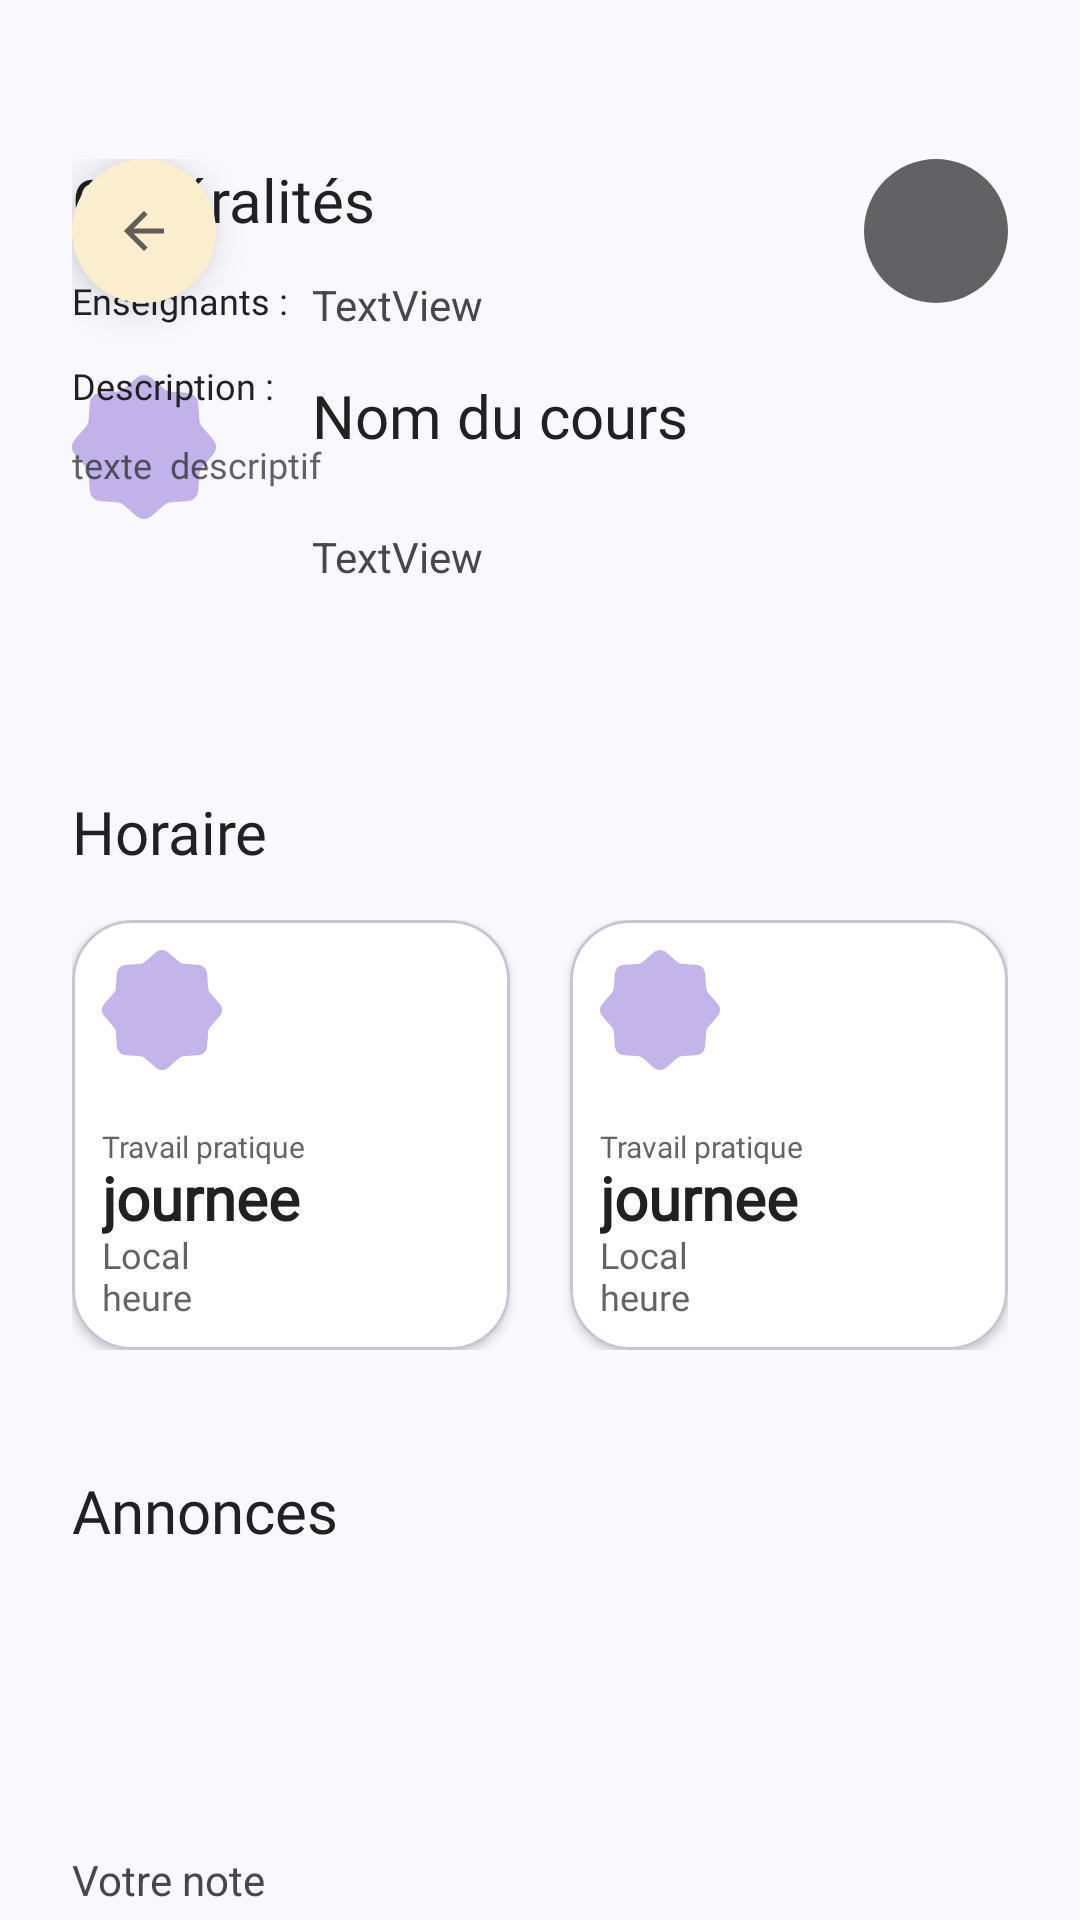

Icons on this 1080px×1920px Android screen, each with the point to tap as [x,y]:
fleche gauche: [144,231]
